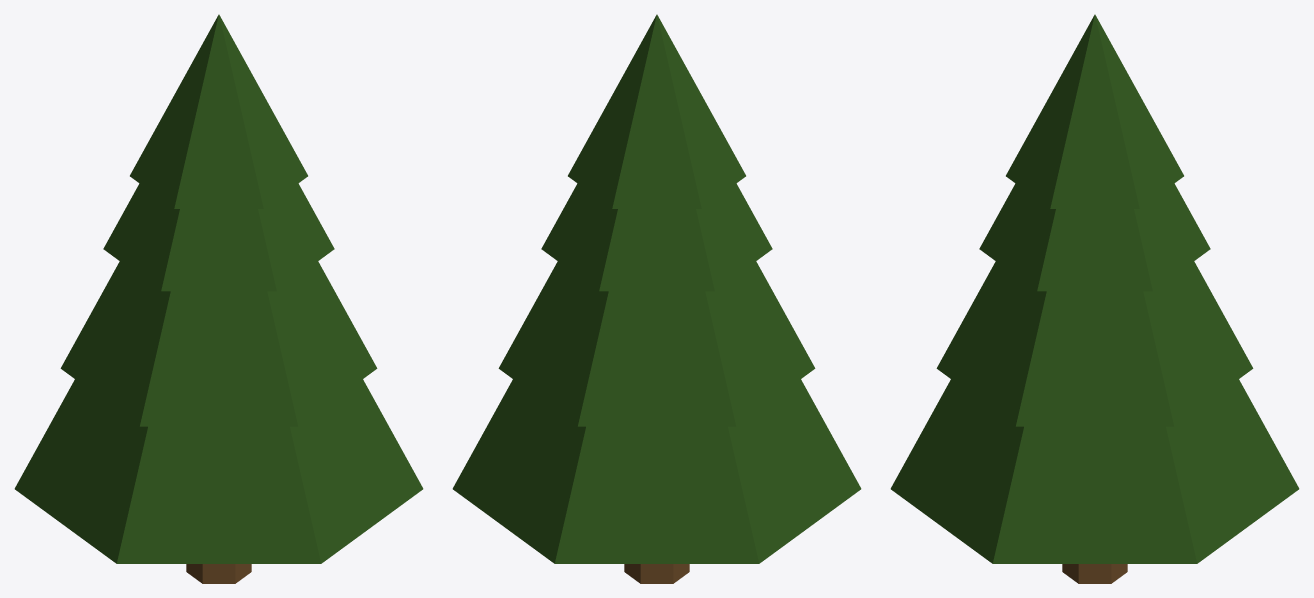
File: sapin.fbx
The picture shows the model from 3 angles, left to right: view 1: azimuth 30°, elevation 25°; view 2: azimuth 150°, elevation 25°; view 3: azimuth 270°, elevation 25°; orthographic projection.
Parts seen in each view (by area): view 1: Cone.002, Cone.001, Cone.003, Cone, Cylinder; view 2: Cone.002, Cone.001, Cone.003, Cone, Cylinder; view 3: Cone.002, Cone.001, Cone.003, Cone, Cylinder.
Part boxes in pixels (x1=…): Cone.002: x1=14, y1=379, x2=423, y2=563; Cone.001: x1=60, y1=261, x2=377, y2=426; Cone.003: x1=130, y1=14, x2=307, y2=208; Cone: x1=103, y1=183, x2=334, y2=291; Cylinder: x1=186, y1=564, x2=251, y2=583; Cone.002: x1=452, y1=379, x2=861, y2=563; Cone.001: x1=498, y1=261, x2=815, y2=426; Cone.003: x1=568, y1=14, x2=745, y2=208; Cone: x1=541, y1=183, x2=772, y2=291; Cylinder: x1=624, y1=564, x2=689, y2=583; Cone.002: x1=890, y1=379, x2=1299, y2=563; Cone.001: x1=936, y1=261, x2=1253, y2=426; Cone.003: x1=1006, y1=14, x2=1183, y2=208; Cone: x1=979, y1=183, x2=1210, y2=291; Cylinder: x1=1062, y1=564, x2=1127, y2=583.
Size of the model in its own units: 306 by 532 by 354.
